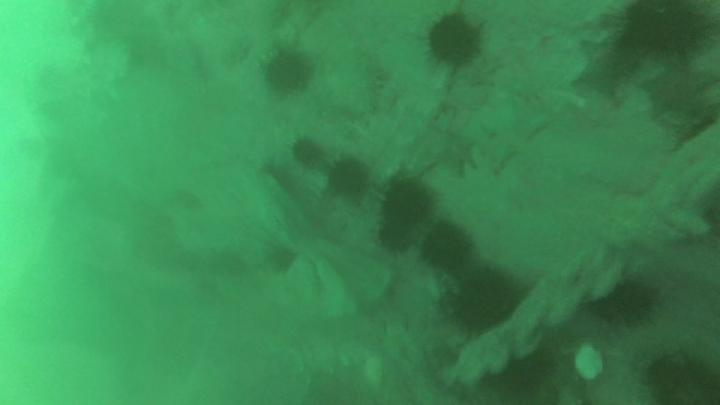echinus: (625, 3, 710, 58), (459, 271, 517, 333), (654, 362, 720, 405), (596, 285, 663, 326), (432, 15, 480, 61), (424, 224, 474, 268), (385, 179, 432, 222), (267, 53, 309, 94), (328, 162, 368, 196), (382, 221, 411, 252), (293, 141, 321, 167)
starfish: (482, 102, 552, 170), (439, 134, 476, 174)
